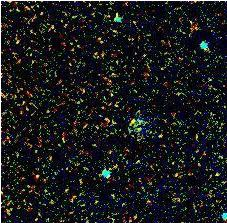star: (113, 104, 143, 134)
